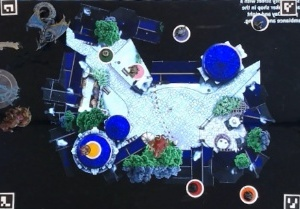blue: (250, 12, 273, 32)
green: (98, 46, 117, 64)
orange: (237, 182, 259, 206)
pink: (129, 62, 146, 82)
red: (184, 177, 208, 197)
violet: (169, 20, 194, 46)
yellow: (82, 138, 101, 160)
